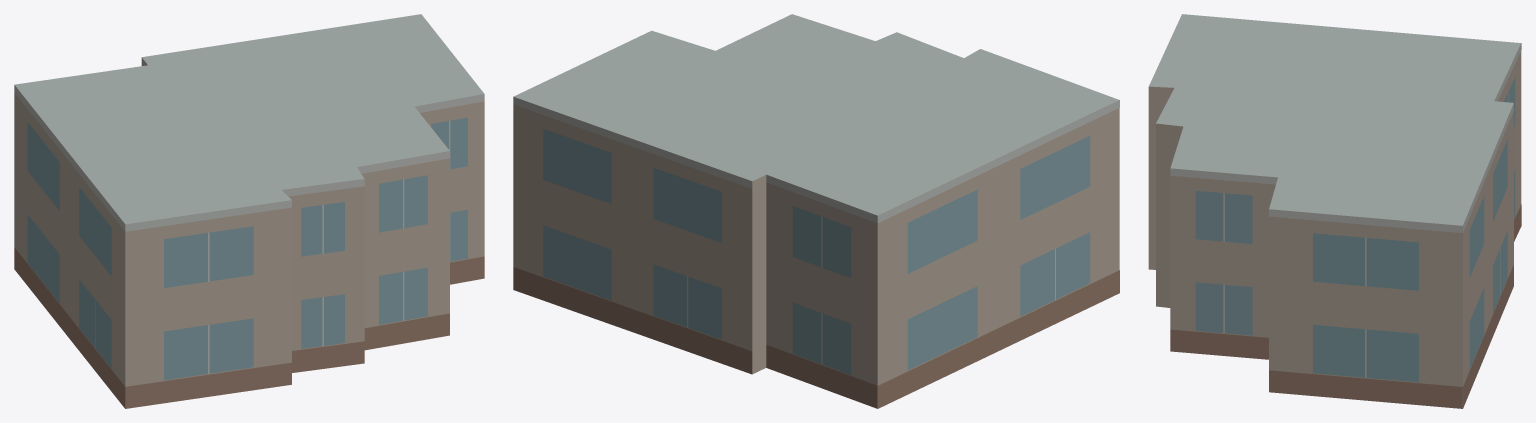
The model's file is survey-upis-32532465.glb.
3 renders of one model, left to right at view 1: azimuth 30°, elevation 25°; view 2: azimuth 150°, elevation 25°; view 3: azimuth 270°, elevation 25°, orthographic. The views are drawn at different scales.
Visible parts, largest first — view 1: survey-upis-32532465.tmp; view 2: survey-upis-32532465.tmp; view 3: survey-upis-32532465.tmp.
Boxes of the visible parts, box(x1,y1,x2,y2) form: survey-upis-32532465.tmp: box(14, 14, 484, 408); survey-upis-32532465.tmp: box(513, 14, 1119, 408); survey-upis-32532465.tmp: box(1148, 14, 1521, 408).
Bounding box in the file's own units: 15.15 × 6.1 × 11.27.
